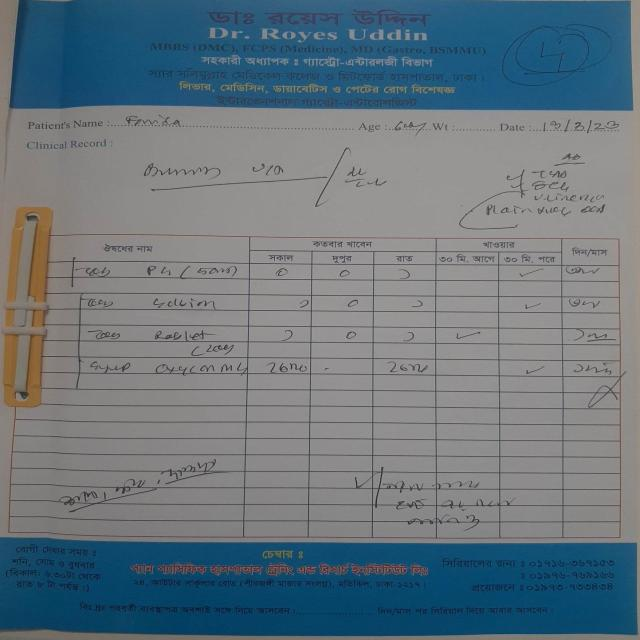Oxecone M: (151, 362, 249, 377)
PG: (140, 262, 181, 280)
Rablet: (147, 327, 219, 344)
Solbion: (149, 295, 223, 312)
